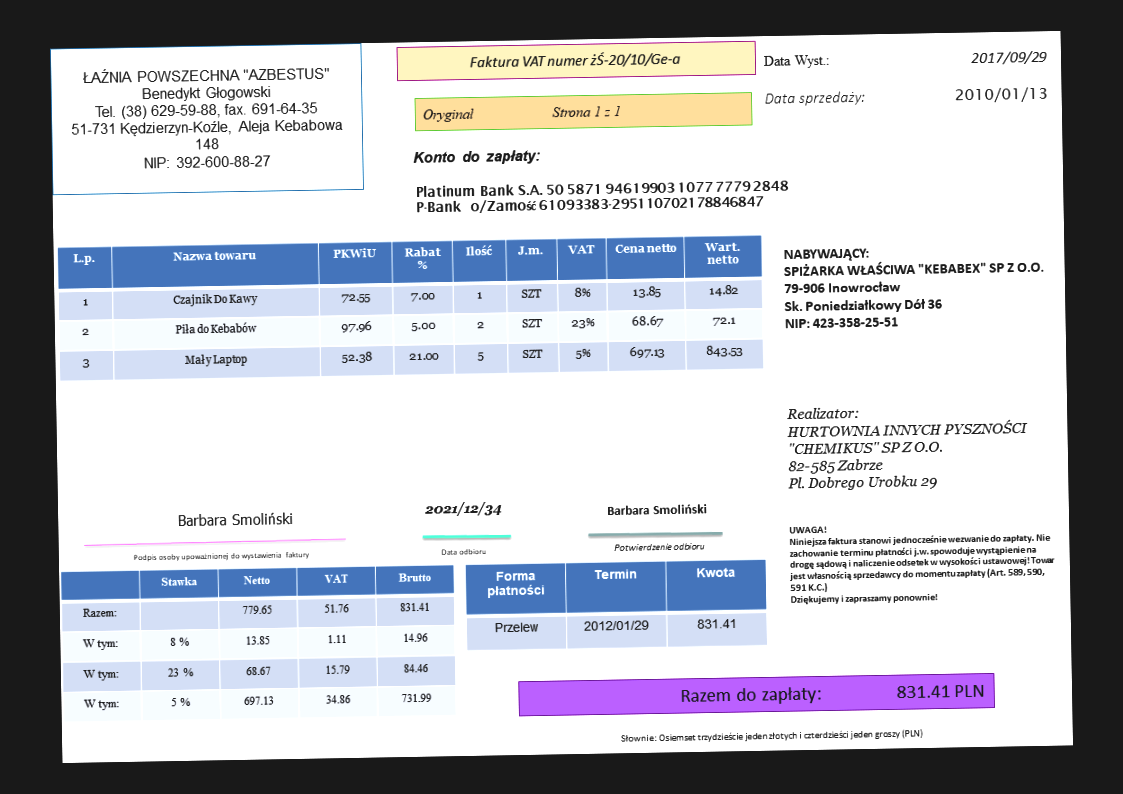Table: (56, 234, 765, 382), (60, 564, 458, 723), (464, 557, 769, 653)
TextBox: (67, 61, 346, 173), (782, 243, 1047, 332), (787, 520, 1057, 607), (784, 401, 1031, 492), (413, 176, 792, 216), (678, 680, 987, 707), (617, 726, 926, 747), (420, 102, 624, 125), (467, 50, 683, 70), (411, 145, 544, 168), (131, 548, 312, 564), (176, 509, 295, 529), (762, 88, 867, 108), (953, 84, 1047, 106), (423, 499, 504, 521), (604, 502, 709, 518), (968, 47, 1048, 67), (761, 51, 830, 71), (611, 540, 705, 554), (439, 546, 487, 557)
